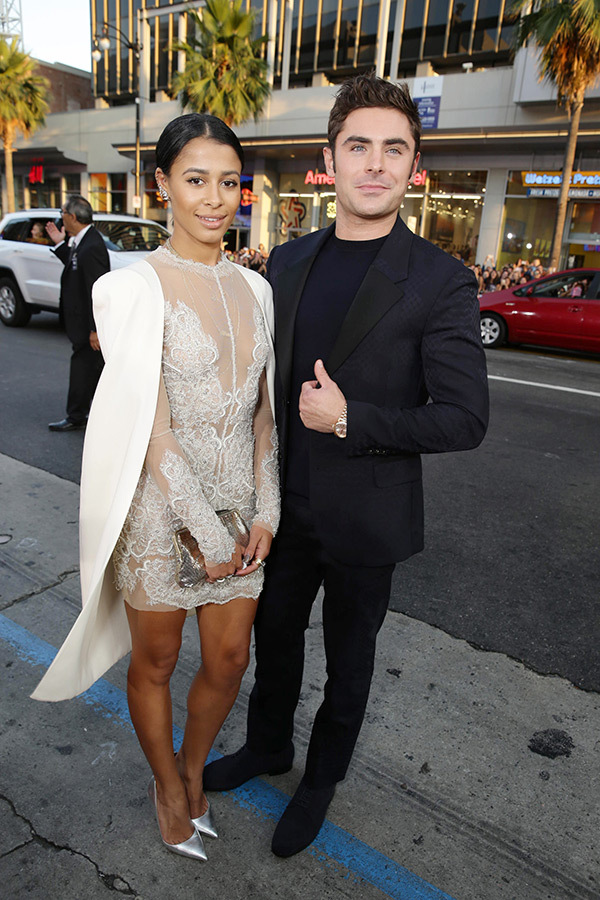Person: (202, 68, 494, 861), (91, 114, 282, 863), (48, 184, 111, 441)
